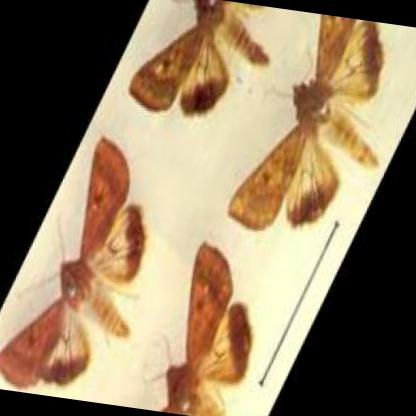helicoverpa: (0, 138, 141, 386), (227, 14, 383, 227), (127, 0, 266, 120), (161, 242, 252, 416)
